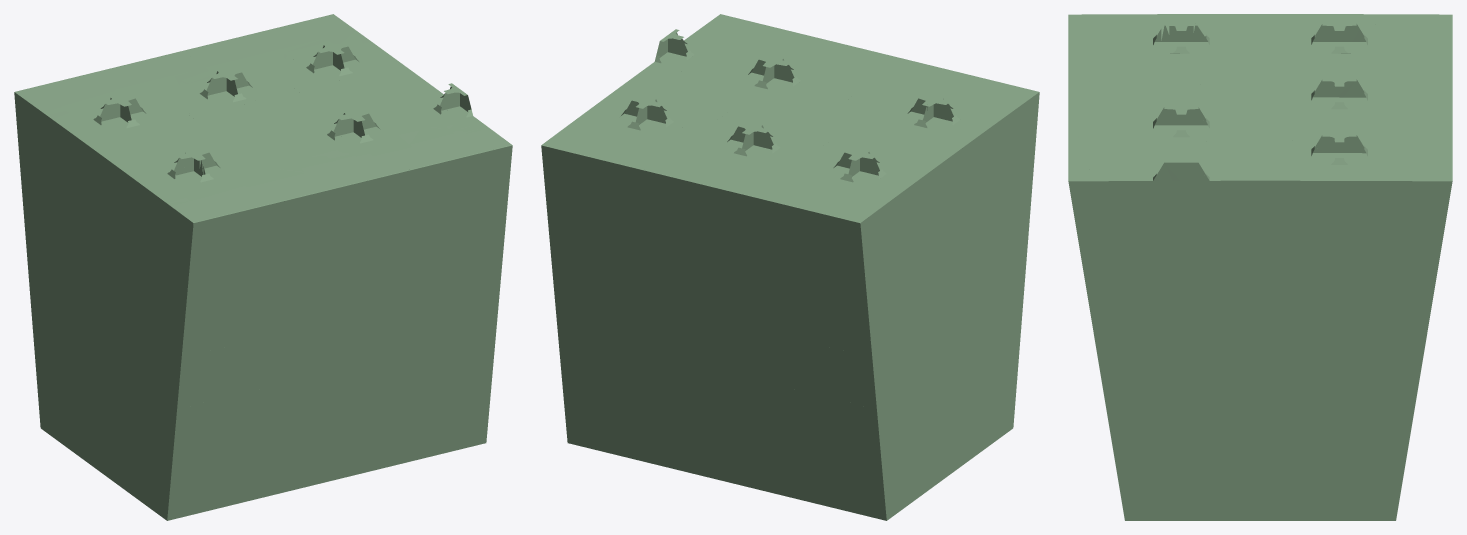
The model's file is NO_3_CENTRAL_CARGO_OIL_TK.glb.
3 renders of one model, left to right at view 1: azimuth 30°, elevation 25°; view 2: azimuth 150°, elevation 25°; view 3: azimuth 270°, elevation 25°, orthographic. The views are drawn at different scales.
Visible parts, largest first — view 1: PL_LBHDxNo3CenterTankS_021002-19.5_NVA36_1993, PL_LBHDxNo3CenterTankS_021001-19.5_NVA36_1993, PL_LBHDxNo3CenterTankS_025002-15_NVA32_1993, PL_LBHDxNo3CenterTankS_025001-15_NVA32_1993, PL_LBHDxNo3CenterTankS_022002-17.5_NVA32_1993, PL_LBHDxNo3CenterTankS_022001-17.5_NVA32_1993, PL_LBHDxNo3CenterTankS_028003-17.5_NVA36_1993, PL_LBHDxNo3CenterTankS_021004-19.5_NVA36_1993, PL_LBHDxNo3CenterTankS_023004-17_NVA32_1993, PL_LBHDxNo3CenterTankS_025004-15_NVA32_1993, PL_LBHDxNo3CenterTankS_023003-17_NVA32_1993, PL_TransBHDxBHD75P_001001-19.5_NVA32_1993 (+129 smaller); view 2: PL_LBHDxNo3CenterTankP_021002-19.5_NVA36_1993, PL_LBHDxNo3CenterTankP_021001-19.5_NVA36_1993, PL_LBHDxNo3CenterTankP_025002-15_NVA32_1993, PL_LBHDxNo3CenterTankP_025001-15_NVA32_1993, PL_LBHDxNo3CenterTankP_022002-17.5_NVA32_1993, PL_LBHDxNo3CenterTankP_022001-17.5_NVA32_1993, PL_LBHDxNo3CenterTankP_028002-17.5_NVA36_1993, PL_LBHDxNo3CenterTankP_021004-19.5_NVA36_1993, PL_LBHDxNo3CenterTankP_023004-17_NVA32_1993, PL_LBHDxNo3CenterTankP_025004-15_NVA32_1993, PL_LBHDxNo3CenterTankP_023003-17_NVA32_1993, PL_TransBHDxBHD75P_001001-19.5_NVA32_1993 (+129 smaller); view 3: PL_TransBHDxBHD81P_013001-19.5_NVA32_1993, PL_TransBHDxBHD81P_008001-14.5_NVA32_1993, PL_TransBHDxBHD81P_005001-13_NVA_1993, PL_TransBHDxBHD81S_009002-13_NVA_1993, PL_TransBHDxBHD81S_000002-19.5_NVA32_1993, PL_TransBHDxBHD81P_005002-13_NVA_1993, PL_TransBHDxBHD81S_009001-13_NVA_1993, PL_TransBHDxBHD81S_003002-14.5_NVA32_1993, PL_TransBHDxBHD81S_016002-18.5_NVA32_1993, PL_TransBHDxBHD81P_012001-18.5_NVA32_1993, PL_TransBHDxBHD81P_009003-15.5_NVA32_1993, PL_TransBHDxBHD81P_010001-17_NVA32_1993 (+97 smaller).
Boxes of the visible parts, x1,y1,x2,y2 form: PL_LBHDxNo3CenterTankS_021002-19.5_NVA36_1993: (244,450,305,501); PL_LBHDxNo3CenterTankS_021001-19.5_NVA36_1993: (187,464,247,515); PL_LBHDxNo3CenterTankS_025002-15_NVA32_1993: (257,300,318,350); PL_LBHDxNo3CenterTankS_025001-15_NVA32_1993: (200,315,260,365); PL_LBHDxNo3CenterTankS_022002-17.5_NVA32_1993: (247,415,308,464); PL_LBHDxNo3CenterTankS_022001-17.5_NVA32_1993: (190,429,250,478); PL_LBHDxNo3CenterTankS_028003-17.5_NVA36_1993: (267,190,328,238); PL_LBHDxNo3CenterTankS_021004-19.5_NVA36_1993: (302,437,359,487); PL_LBHDxNo3CenterTankS_023004-17_NVA32_1993: (251,374,312,422); PL_LBHDxNo3CenterTankS_025004-15_NVA32_1993: (316,287,372,336); PL_LBHDxNo3CenterTankS_023003-17_NVA32_1993: (194,389,254,436); PL_TransBHDxBHD75P_001001-19.5_NVA32_1993: (57,401,103,474); PL_LBHDxNo3CenterTankP_021002-19.5_NVA36_1993: (748,450,809,501); PL_LBHDxNo3CenterTankP_021001-19.5_NVA36_1993: (806,464,866,515); PL_LBHDxNo3CenterTankP_025002-15_NVA32_1993: (735,300,796,350); PL_LBHDxNo3CenterTankP_025001-15_NVA32_1993: (793,315,853,365); PL_LBHDxNo3CenterTankP_022002-17.5_NVA32_1993: (745,415,806,464); PL_LBHDxNo3CenterTankP_022001-17.5_NVA32_1993: (803,429,863,478); PL_LBHDxNo3CenterTankP_028002-17.5_NVA36_1993: (725,190,786,238); PL_LBHDxNo3CenterTankP_021004-19.5_NVA36_1993: (694,437,751,487); PL_LBHDxNo3CenterTankP_023004-17_NVA32_1993: (741,374,802,422); PL_LBHDxNo3CenterTankP_025004-15_NVA32_1993: (681,287,737,336); PL_LBHDxNo3CenterTankP_023003-17_NVA32_1993: (799,389,859,436); PL_TransBHDxBHD75P_001001-19.5_NVA32_1993: (903,434,949,508); PL_TransBHDxBHD81P_013001-19.5_NVA32_1993: (1260,477,1359,520); PL_TransBHDxBHD81P_008001-14.5_NVA32_1993: (1260,308,1359,348); PL_TransBHDxBHD81P_005001-13_NVA_1993: (1260,180,1359,221); PL_TransBHDxBHD81S_009002-13_NVA_1993: (1161,180,1260,221); PL_TransBHDxBHD81S_000002-19.5_NVA32_1993: (1161,477,1244,520); PL_TransBHDxBHD81P_005002-13_NVA_1993: (1359,181,1446,221); PL_TransBHDxBHD81S_009001-13_NVA_1993: (1074,181,1161,221); PL_TransBHDxBHD81S_003002-14.5_NVA32_1993: (1161,308,1244,348); PL_TransBHDxBHD81S_016002-18.5_NVA32_1993: (1161,438,1244,477); PL_TransBHDxBHD81P_012001-18.5_NVA32_1993: (1279,438,1359,477); PL_TransBHDxBHD81P_009003-15.5_NVA32_1993: (1260,361,1359,391); PL_TransBHDxBHD81P_010001-17_NVA32_1993: (1260,391,1359,421).
Size of the model in its own units: 31.44 by 31.54 by 30.6.
